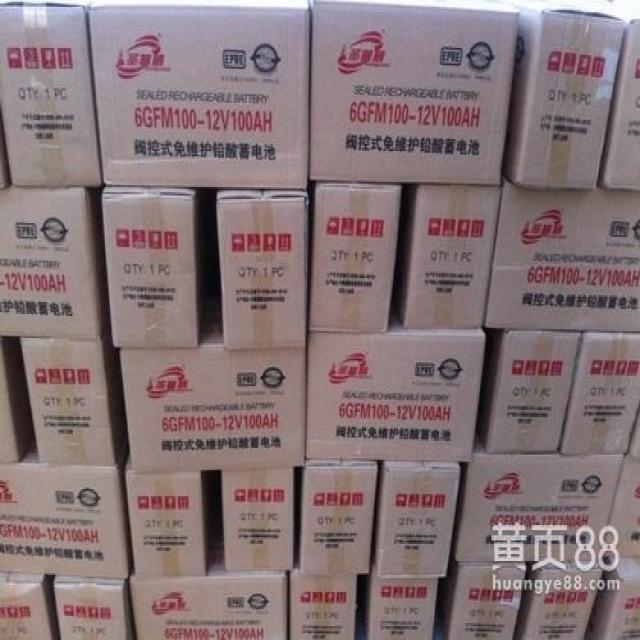box: (88, 0, 311, 189), (308, 0, 521, 185), (119, 304, 307, 474), (306, 295, 485, 463), (485, 173, 640, 335), (502, 0, 625, 190), (452, 432, 626, 563), (0, 434, 133, 580), (0, 0, 102, 185), (129, 532, 289, 640), (0, 184, 109, 340), (101, 185, 205, 348), (20, 314, 127, 463), (394, 184, 502, 329), (215, 189, 310, 350), (308, 182, 401, 331), (476, 329, 581, 451), (125, 455, 218, 580), (559, 331, 640, 455), (374, 463, 461, 578), (298, 458, 378, 578), (598, 0, 640, 192), (438, 552, 527, 640), (221, 468, 294, 571), (513, 561, 604, 640), (358, 561, 438, 640), (291, 563, 358, 640), (54, 577, 134, 640), (585, 558, 640, 638), (0, 338, 35, 462), (0, 573, 60, 640), (603, 456, 640, 558), (0, 106, 10, 189), (626, 403, 640, 456)
